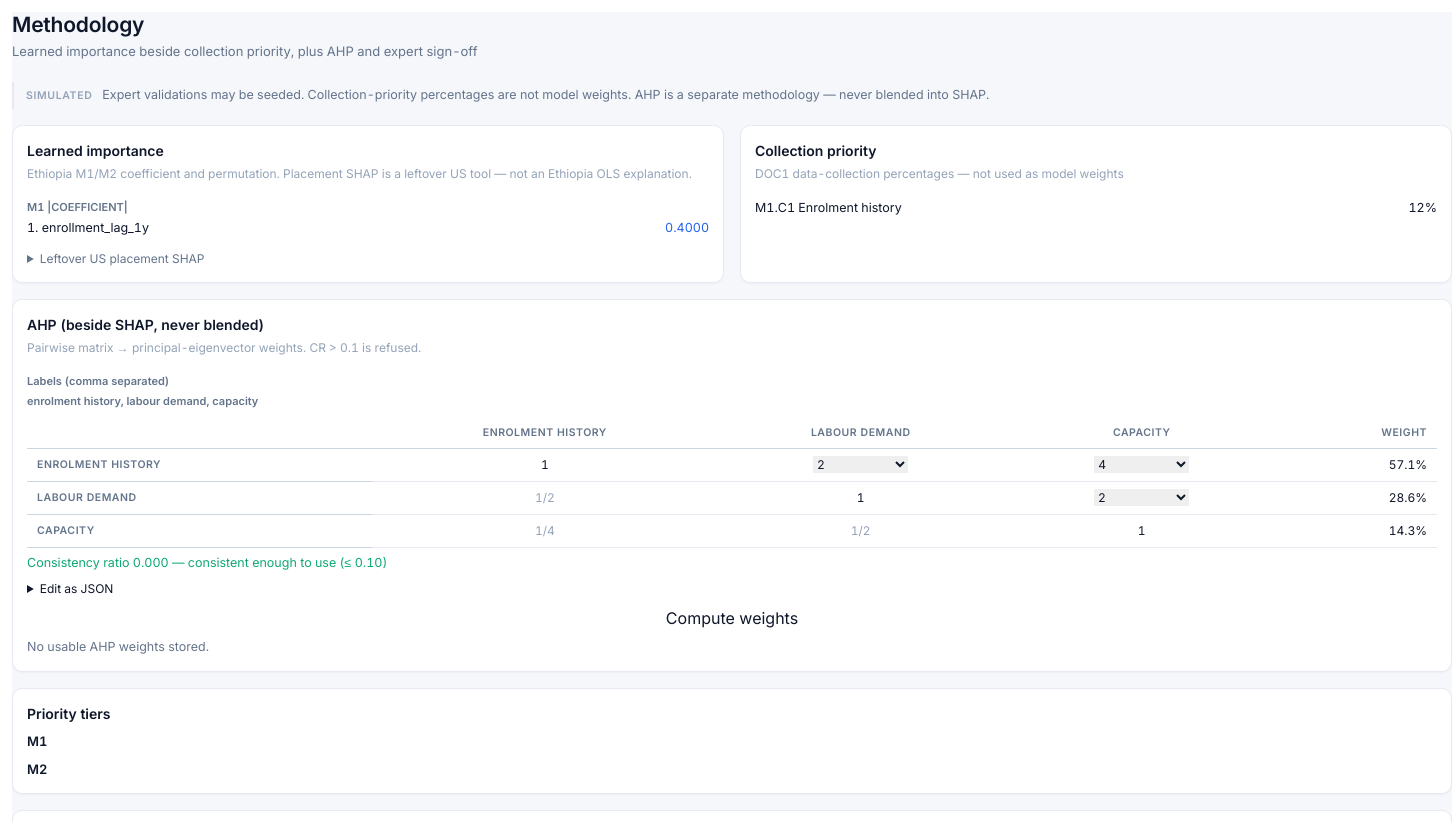
Scenario: W.ADM.04 two labelled panels › refuses an inconsistent AHP matrix in the UI
The image size is (1452, 822).
Check: the text "No usable AHP weights stored." is shown, box [27,639,209,654]
Click the button "Compute weights" at (732, 618), box [27,606,1437,630]
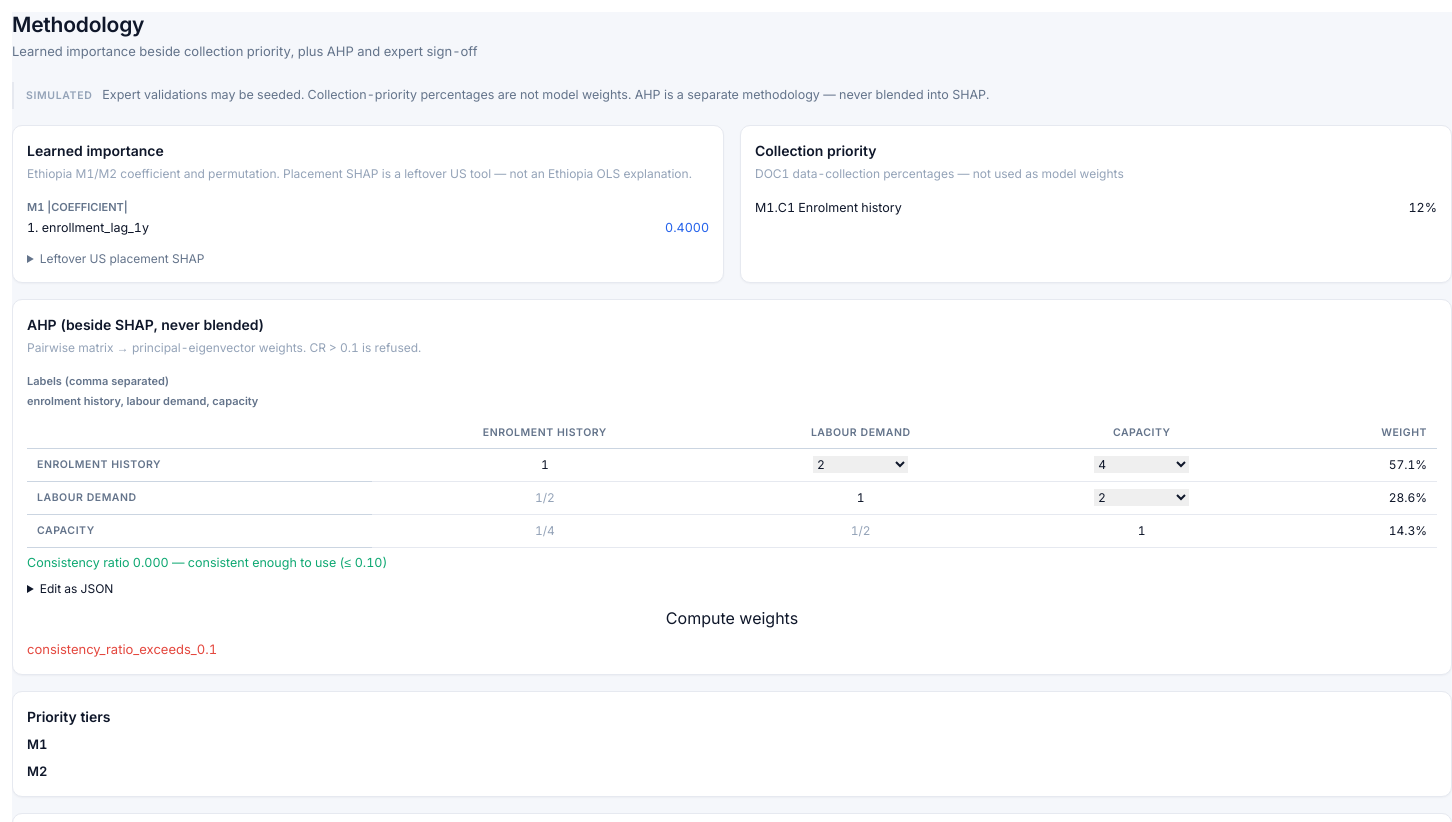
Check: the text with test id "ahp-refused" shows "consistency_ratio", box [27,641,217,657]
